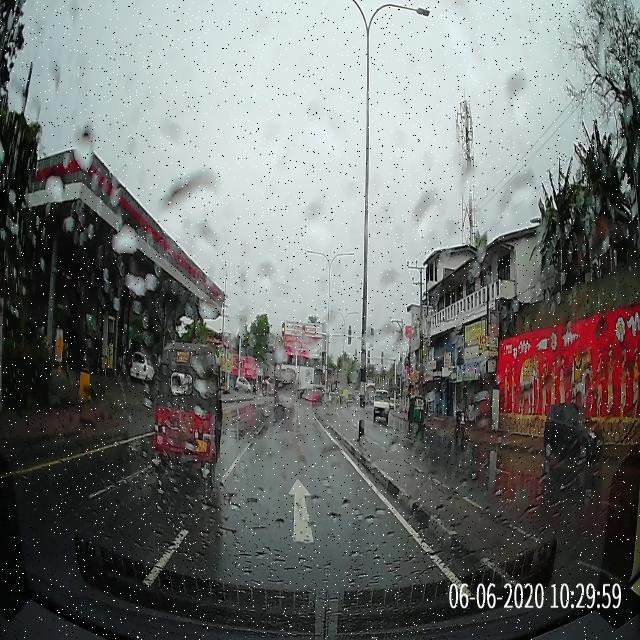forward: (166, 463, 430, 554)
